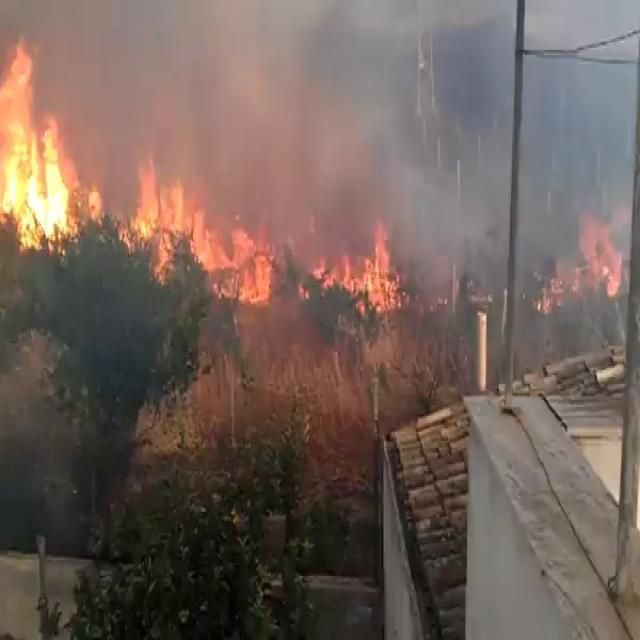Fire: (128, 162, 276, 308), (0, 44, 80, 252), (538, 202, 628, 314), (316, 215, 404, 318)
Smoke: (0, 0, 640, 276)
